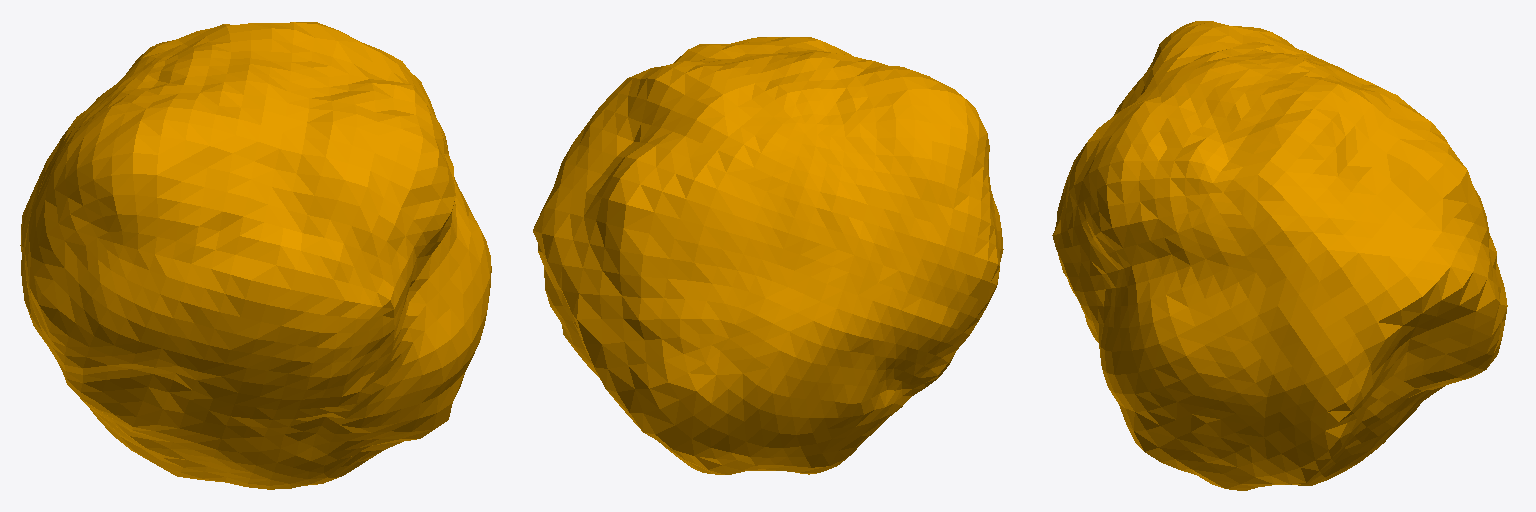
The robot description file, URDF, robot "rock":
<?xml version="1.0" ?>
<robot name="rock">
  <link name="rock">
    <inertial>
      <mass value="0.25"/>
      <origin rpy="0 0 0" xyz="0 0 0"/>
      <inertia ixx="0.00025" ixy="0" ixz="0" iyy="0.00025" iyz="0" izz="0.00025"/>
    </inertial>
    <collision name="rock_collision">
      <origin rpy="0 0 0" xyz="0 0 0"/>
      <geometry>
        <mesh filename="package://rocks/collision/15.stl" scale="1 1 1"/>
      </geometry>
    </collision>
    <visual name="rock_visual">
      <origin rpy="0 0 0" xyz="0 0 0"/>
      <geometry>
        <mesh filename="package://rocks/visual/15.dae" scale="1 1 1"/>
      </geometry>
    </visual>
  </link>
</robot>

--- Render facts (derived) ---
The picture shows the robot from 3 angles, left to right: view 1: azimuth 30°, elevation 25°; view 2: azimuth 150°, elevation 25°; view 3: azimuth 270°, elevation 25°; orthographic projection.
Robot: rock — 1 links, 0 joints (none); root link rock; default pose: every joint at zero.
Links seen in each view (by area): view 1: rock; view 2: rock; view 3: rock.
Link boxes in pixels (x1,y1,x2,y2): rock: (20, 22, 491, 489); rock: (533, 37, 1003, 474); rock: (1052, 21, 1507, 490).
Size in the robot's own frame: 0.0793 by 0.078 by 0.0737 metres.
Meshes: 1 distinct files referenced, 1 mesh visuals loaded (1 Collada DAE).